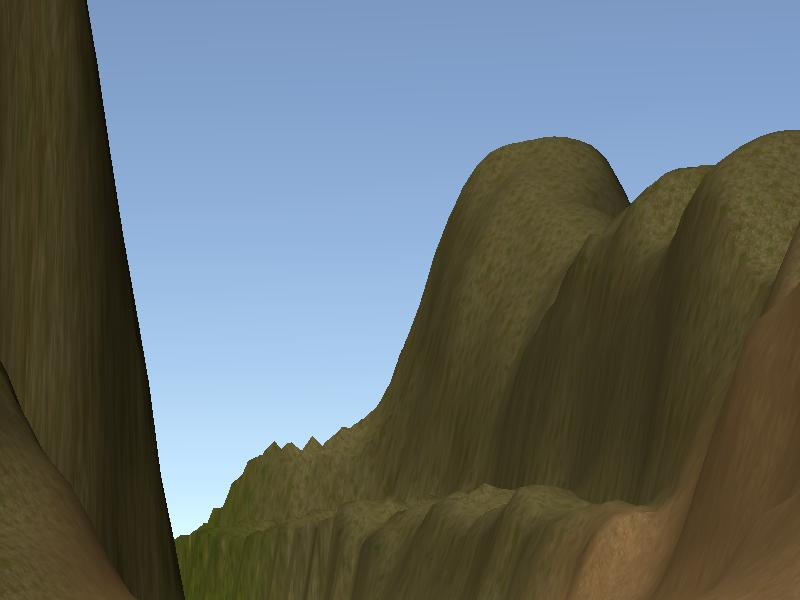background: (2, 2, 800, 597)
